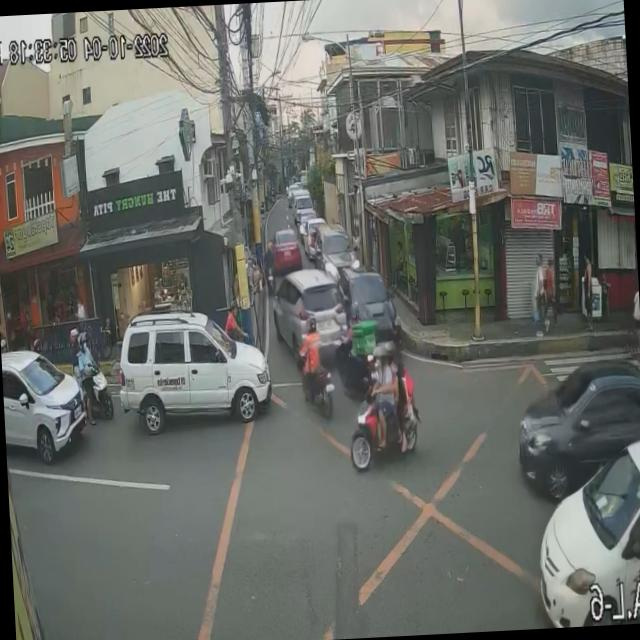half: (79, 330, 90, 353), (70, 325, 80, 345)
invalid: (371, 344, 388, 362), (386, 342, 398, 354)
not_wearing: (389, 356, 399, 379)
